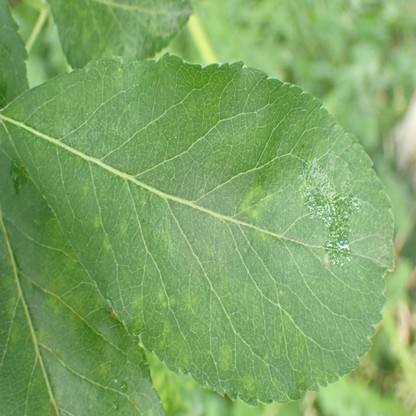scab: (164, 323, 189, 368), (242, 188, 270, 215), (9, 295, 22, 343), (65, 250, 76, 276), (273, 330, 283, 358), (221, 344, 232, 369), (35, 323, 47, 345), (242, 373, 254, 391), (71, 301, 80, 323), (132, 315, 144, 331), (47, 398, 58, 415), (92, 214, 102, 230), (98, 365, 109, 378), (131, 295, 142, 308), (119, 220, 127, 237), (297, 333, 304, 352), (103, 237, 113, 250), (54, 351, 63, 365), (188, 295, 197, 307), (156, 340, 165, 352), (158, 287, 164, 298), (82, 184, 88, 194), (55, 296, 60, 307), (171, 296, 175, 307), (162, 302, 166, 308), (279, 290, 283, 296)
